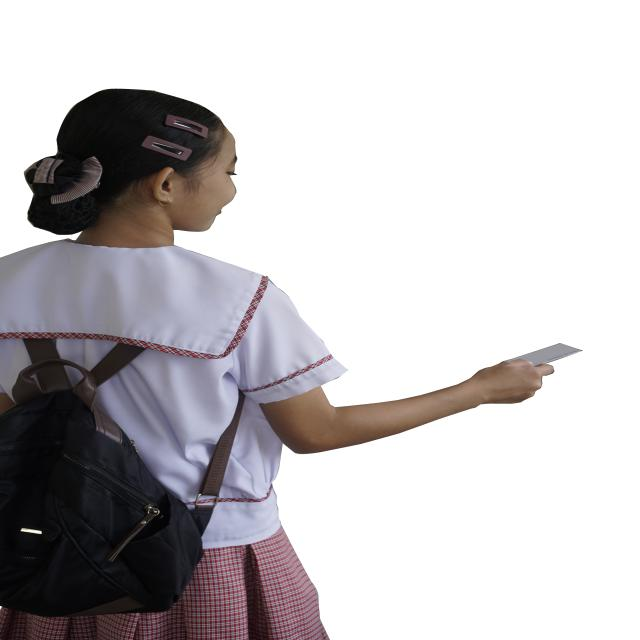pologirl: (0, 240, 347, 548)
skirt: (0, 527, 328, 640)
